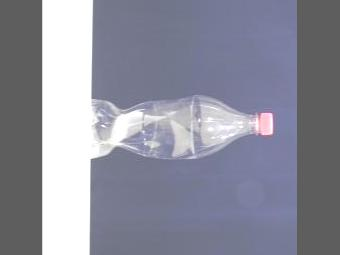bottle: (67, 90, 273, 166)
